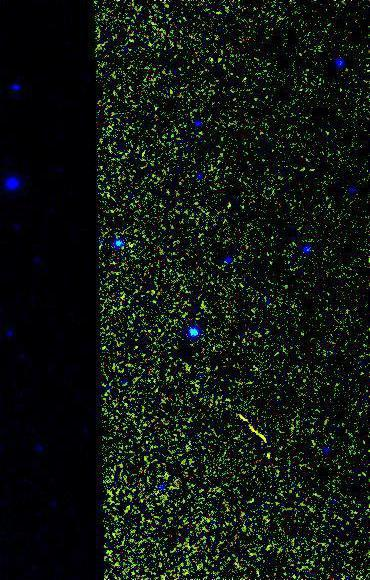star: (254, 443, 284, 473)
